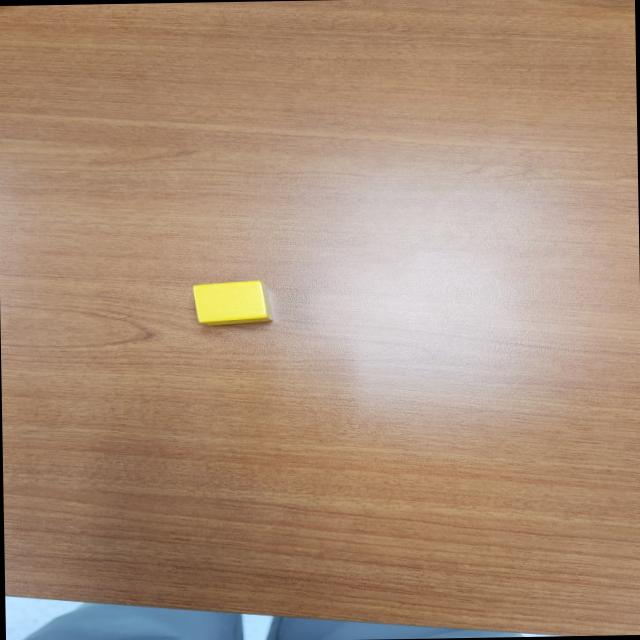yellow: (192, 280, 275, 326)
